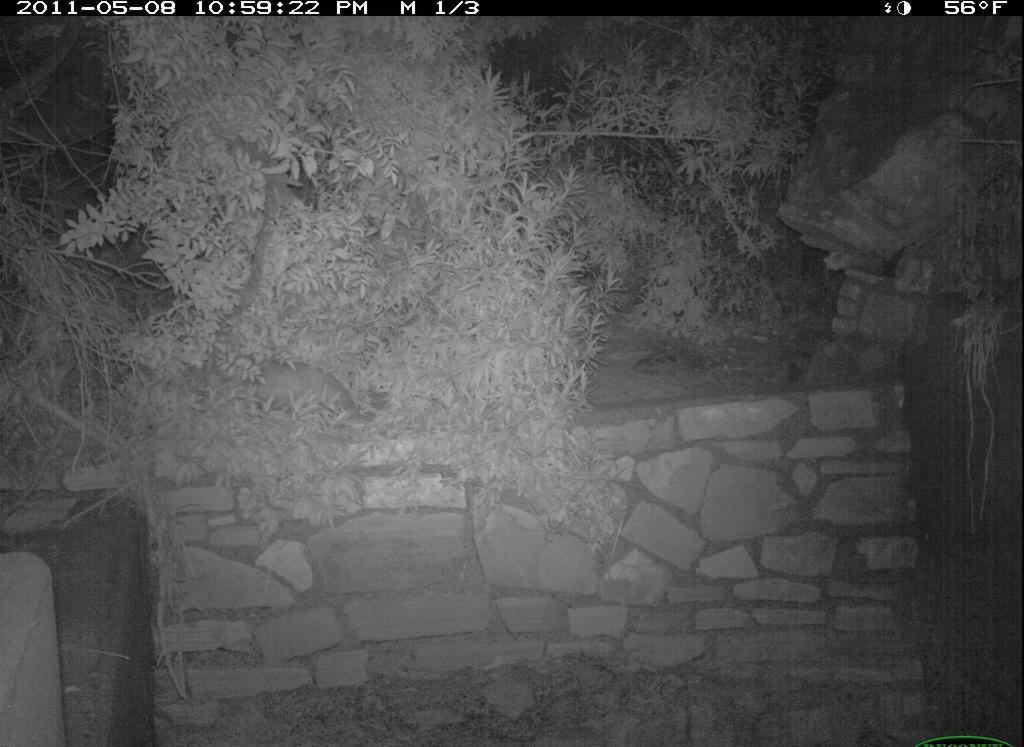opossum: (218, 356, 374, 429)
